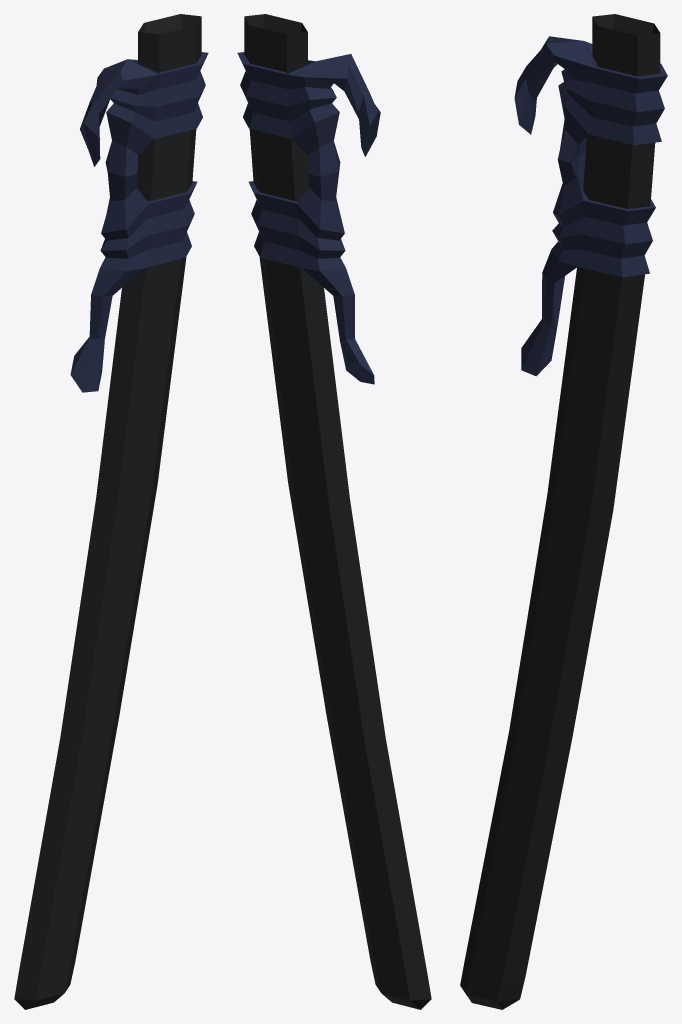
File: katana_sheeth.glb
3 views of the same model, side by side, from view 1: azimuth 30°, elevation 25°; view 2: azimuth 150°, elevation 25°; view 3: azimuth 330°, elevation 25° (orthographic). The views are drawn at different scales.
Parts seen in each view (by area): view 1: katana_sheeth.004, katana_sheeth.003; view 2: katana_sheeth.004, katana_sheeth.003; view 3: katana_sheeth.004, katana_sheeth.003.
Part boxes in pixels (x1,y1,x2,y2): katana_sheeth.004: (14,14,201,1009); katana_sheeth.003: (70,52,208,392); katana_sheeth.004: (244,14,431,1009); katana_sheeth.003: (237,52,380,384); katana_sheeth.004: (460,14,660,1009); katana_sheeth.003: (514,36,667,376).
Size of the model in its own units: 0.1446 by 0.6757 by 0.0337.
